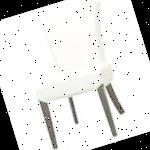Silla: (12, 0, 140, 149)
